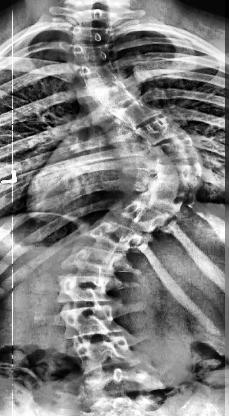Vertebrae: (56, 272, 123, 306), (64, 242, 124, 278), (83, 367, 159, 395), (76, 337, 144, 367), (62, 302, 122, 336), (90, 218, 146, 254), (134, 184, 190, 214), (154, 160, 205, 190), (120, 202, 166, 234), (138, 116, 184, 146), (100, 78, 140, 112), (150, 136, 198, 164), (120, 94, 162, 126), (80, 62, 122, 94), (72, 44, 114, 66), (74, 25, 114, 45)
